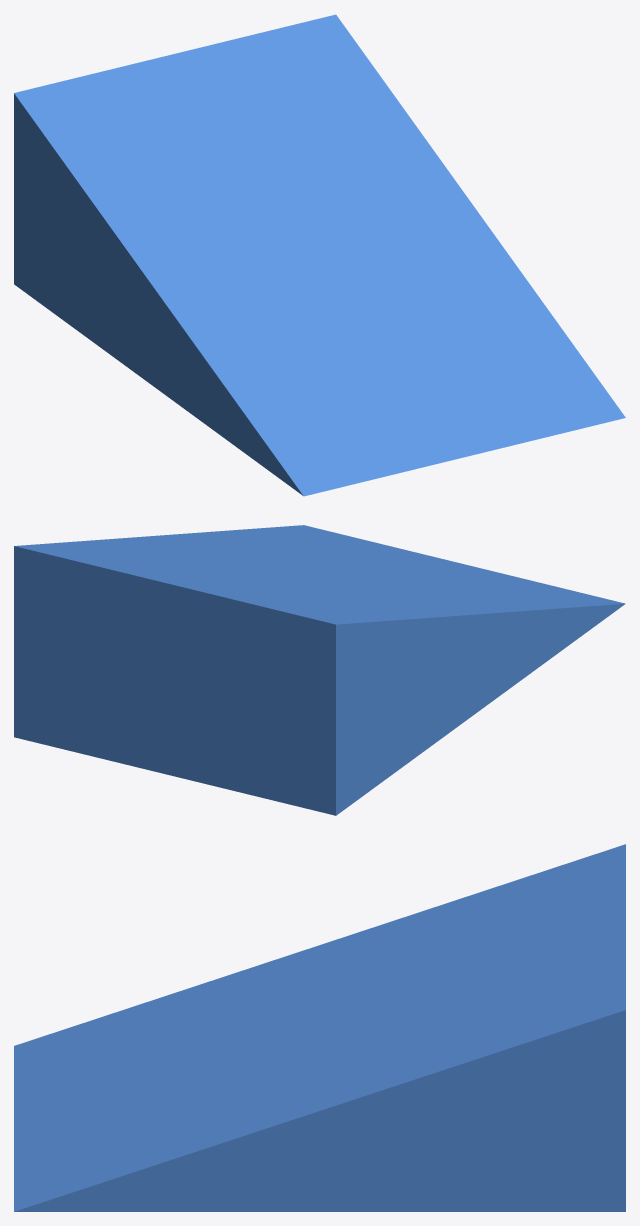
File: ramp.glb
The picture shows the model from 3 angles, top to bottom: view 1: azimuth 30°, elevation 25°; view 2: azimuth 150°, elevation 25°; view 3: azimuth 270°, elevation 25°; orthographic projection. The views are drawn at different scales.
Visible parts, largest first — view 1: Cube; view 2: Cube; view 3: Cube.
Part boxes in pixels (<box>): Cube: <box>14,14,625,496</box>; Cube: <box>14,525,625,815</box>; Cube: <box>14,844,625,1211</box>.
Bounding box in the file's own units: 6.13 × 3.48 × 9.56.
